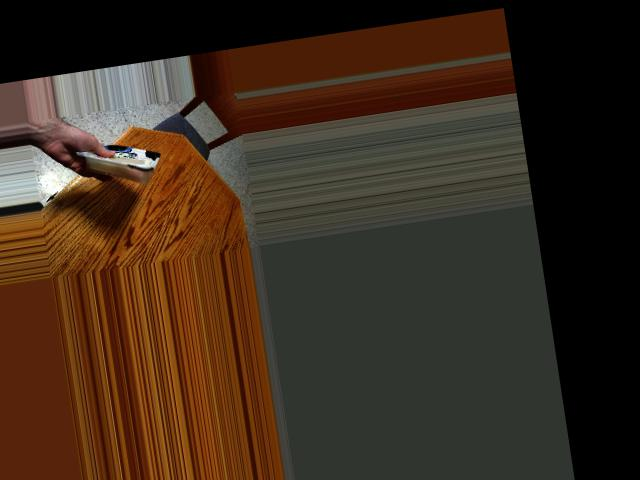cheese: (80, 124, 161, 195)
